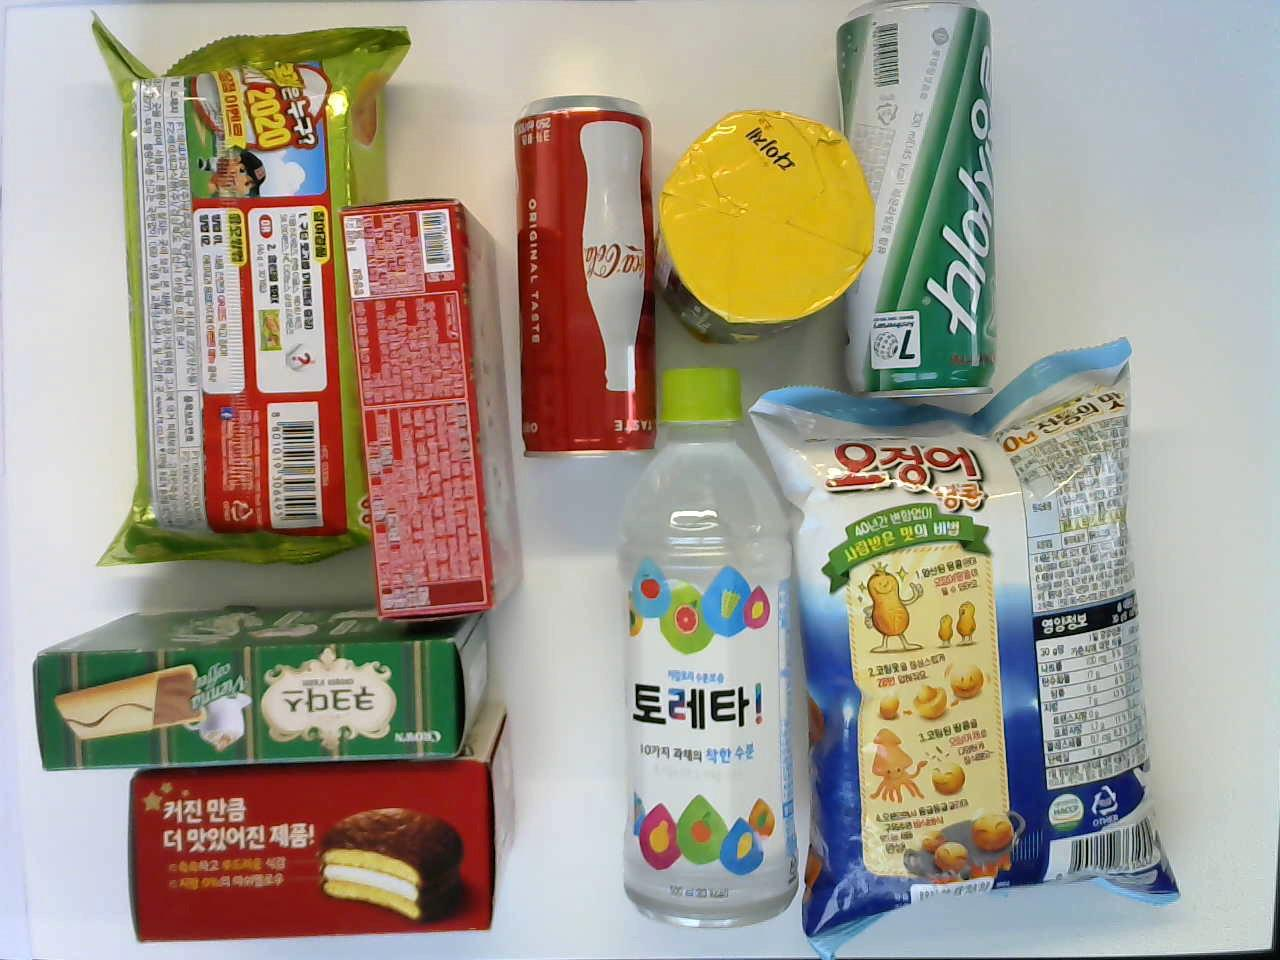chocopie: (125, 762, 502, 948)
cidar: (841, 8, 994, 401)
coke: (518, 99, 655, 462)
couque_coffee: (30, 606, 485, 774)
couque_white: (337, 204, 528, 620)
diget_choco: (657, 113, 871, 339)
homerunball: (95, 13, 374, 578)
squid_peanut: (794, 334, 1181, 938)
toreta: (613, 369, 784, 926)
